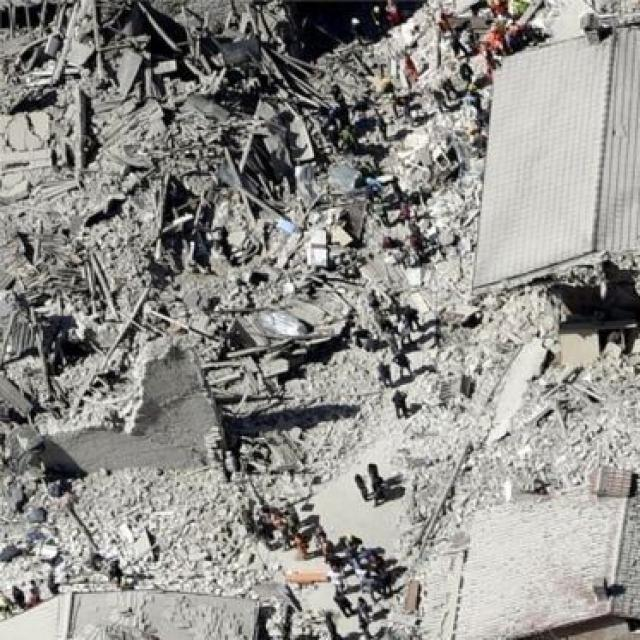collapsed_building: (0, 0, 429, 393)
